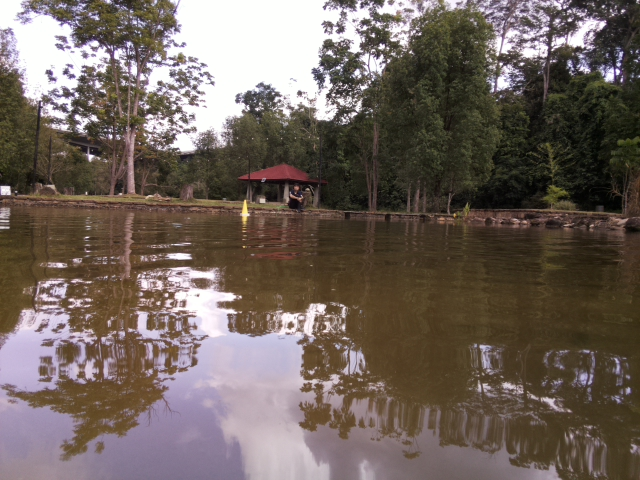checkpoint: (239, 198, 250, 217)
